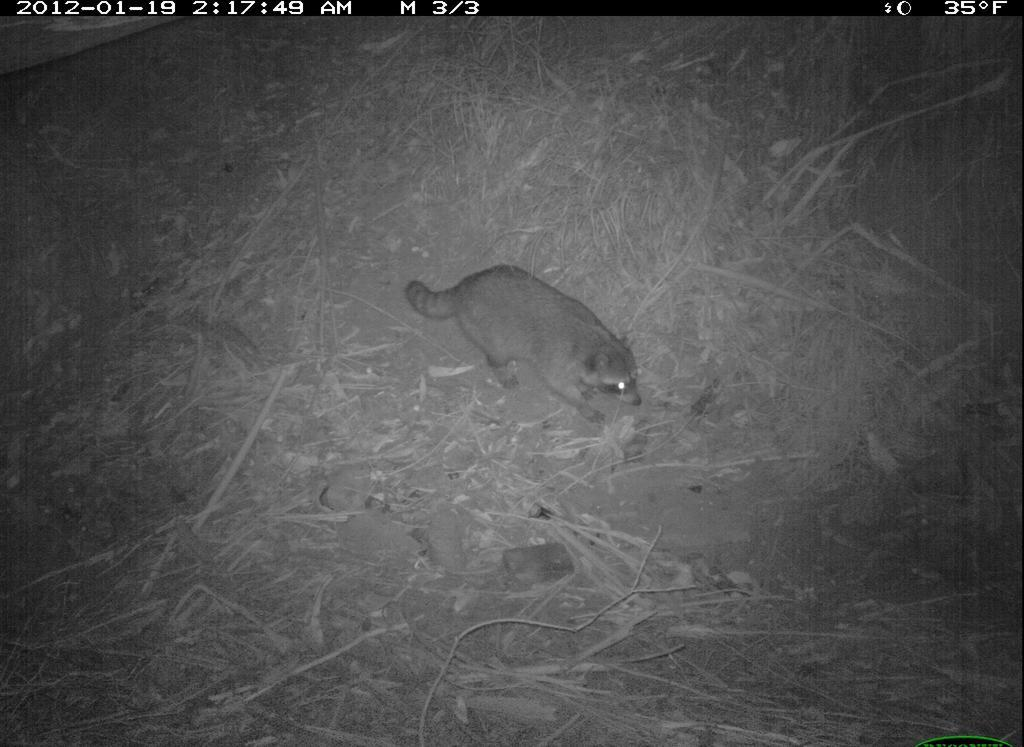raccoon: (397, 258, 662, 440)
